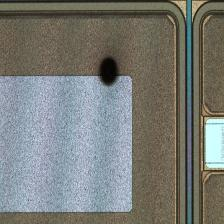PARTICLE: (91, 53, 127, 89)
